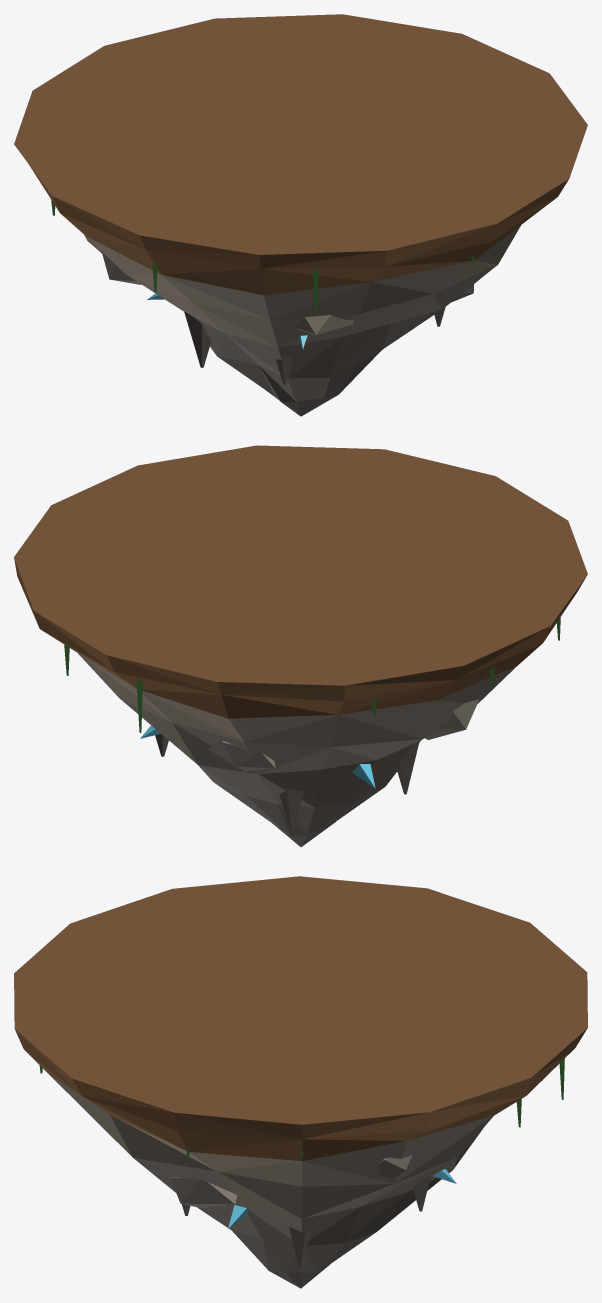
File: Prop_IslandRock.fbx
The picture shows the model from 3 angles, top to bottom: view 1: azimuth 30°, elevation 25°; view 2: azimuth 150°, elevation 25°; view 3: azimuth 270°, elevation 25°; orthographic projection. The views are drawn at different scales.
Visible parts, largest first — view 1: Body; view 2: Body; view 3: Body.
Part boxes in pixels (<box>): Body: <box>14,14,587,416</box>; Body: <box>14,445,587,846</box>; Body: <box>14,876,587,1288</box>.
Size of the model in its own units: 18.5 by 10 by 18.05.
